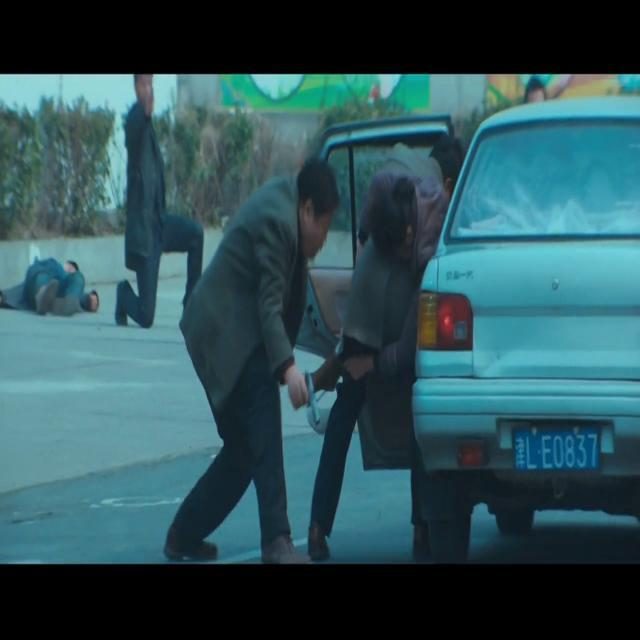gun-knife-thesis - v11 Yolov5 augmented: (286, 358, 328, 430)
